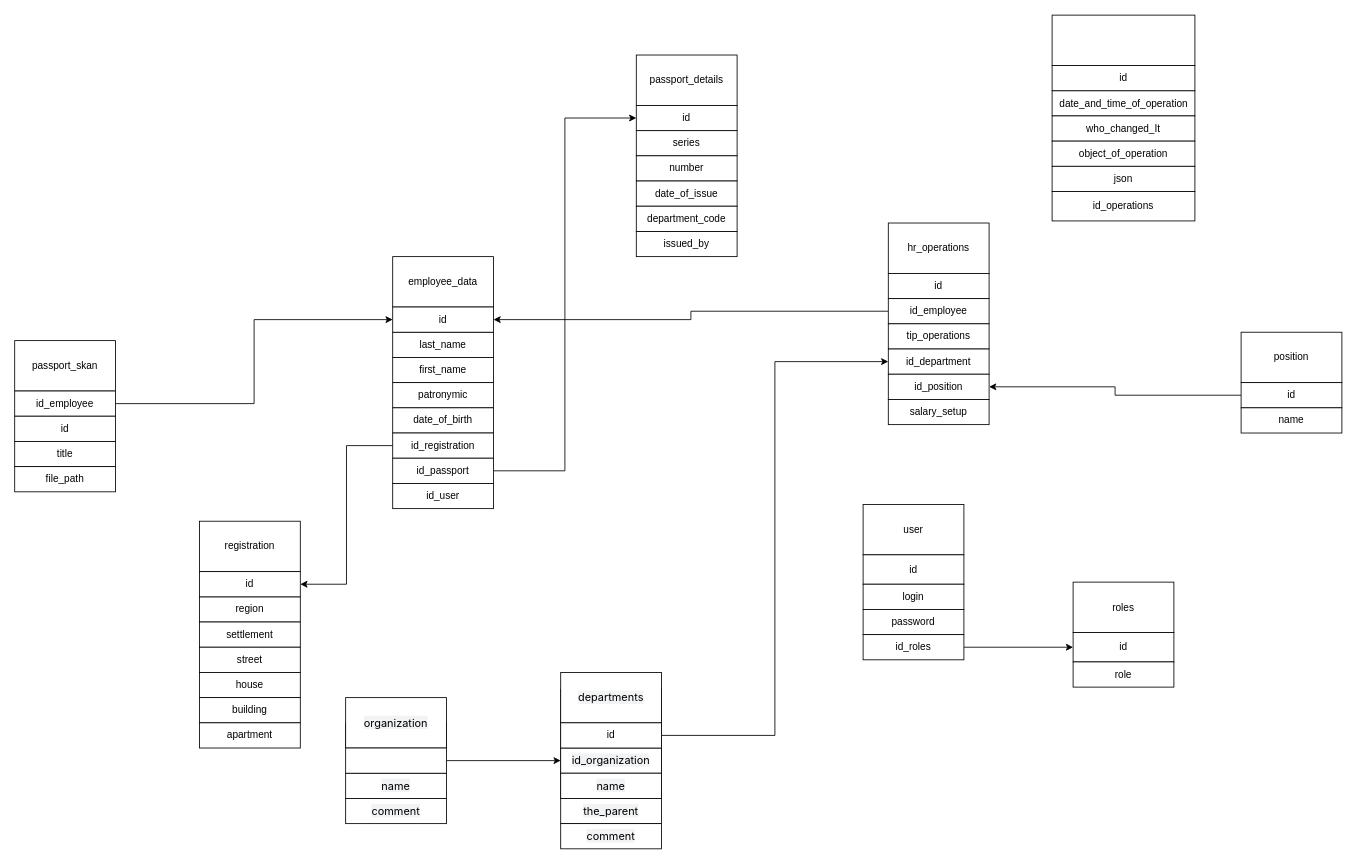
Image size: 1357x864. Some labels were removed from this diagram. The box of each missing label's shape, as (x1, y1, x2, y2) in pixels:
change_history: (1051, 14, 1195, 66)
id_o rganization: (345, 747, 446, 773)
